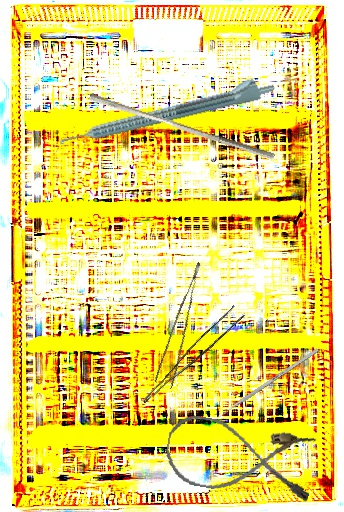Cannula: (161, 411, 319, 506)
Handpiece: (55, 71, 277, 150)
Pusher: (86, 92, 278, 161), (211, 347, 320, 423)
Tissue Forceps: (142, 302, 245, 414), (148, 262, 221, 389)
